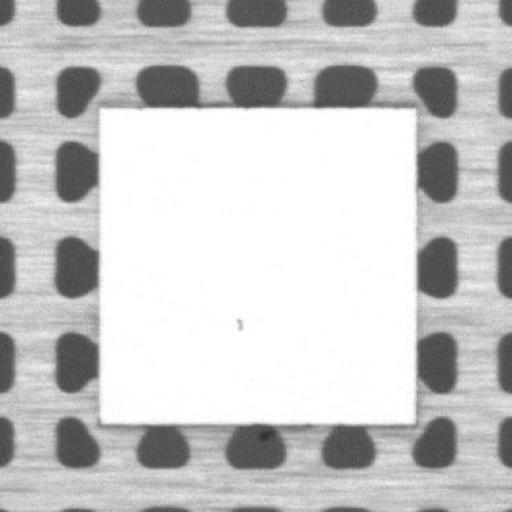DIE_INK: (233, 318, 246, 332)
